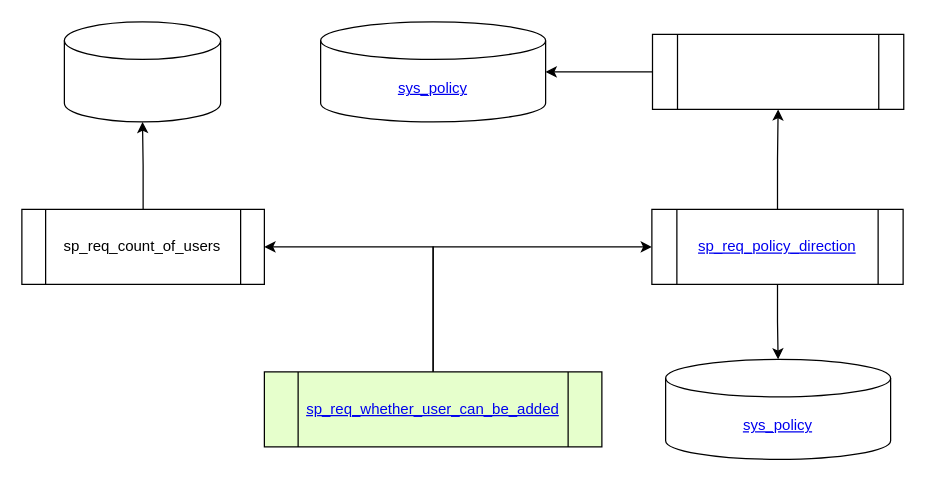
Some shapes in this 926 by 481 pixel diagram are drawn without their labels. The shapes that lost their labels are listed below. From the top down, each one's centre as x and y in pixels, then its label:
At point (142, 71): "USERS".
At point (777, 71): "sp_req_policy_exists".
